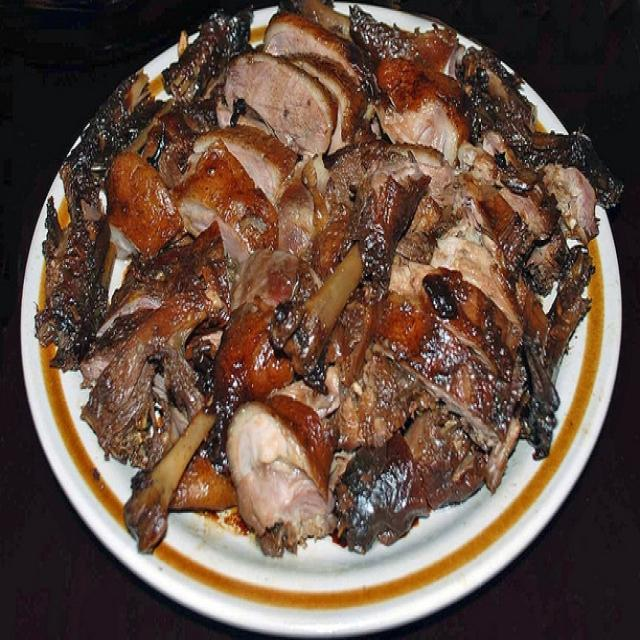烧串烤肉: (25, 12, 616, 584)
